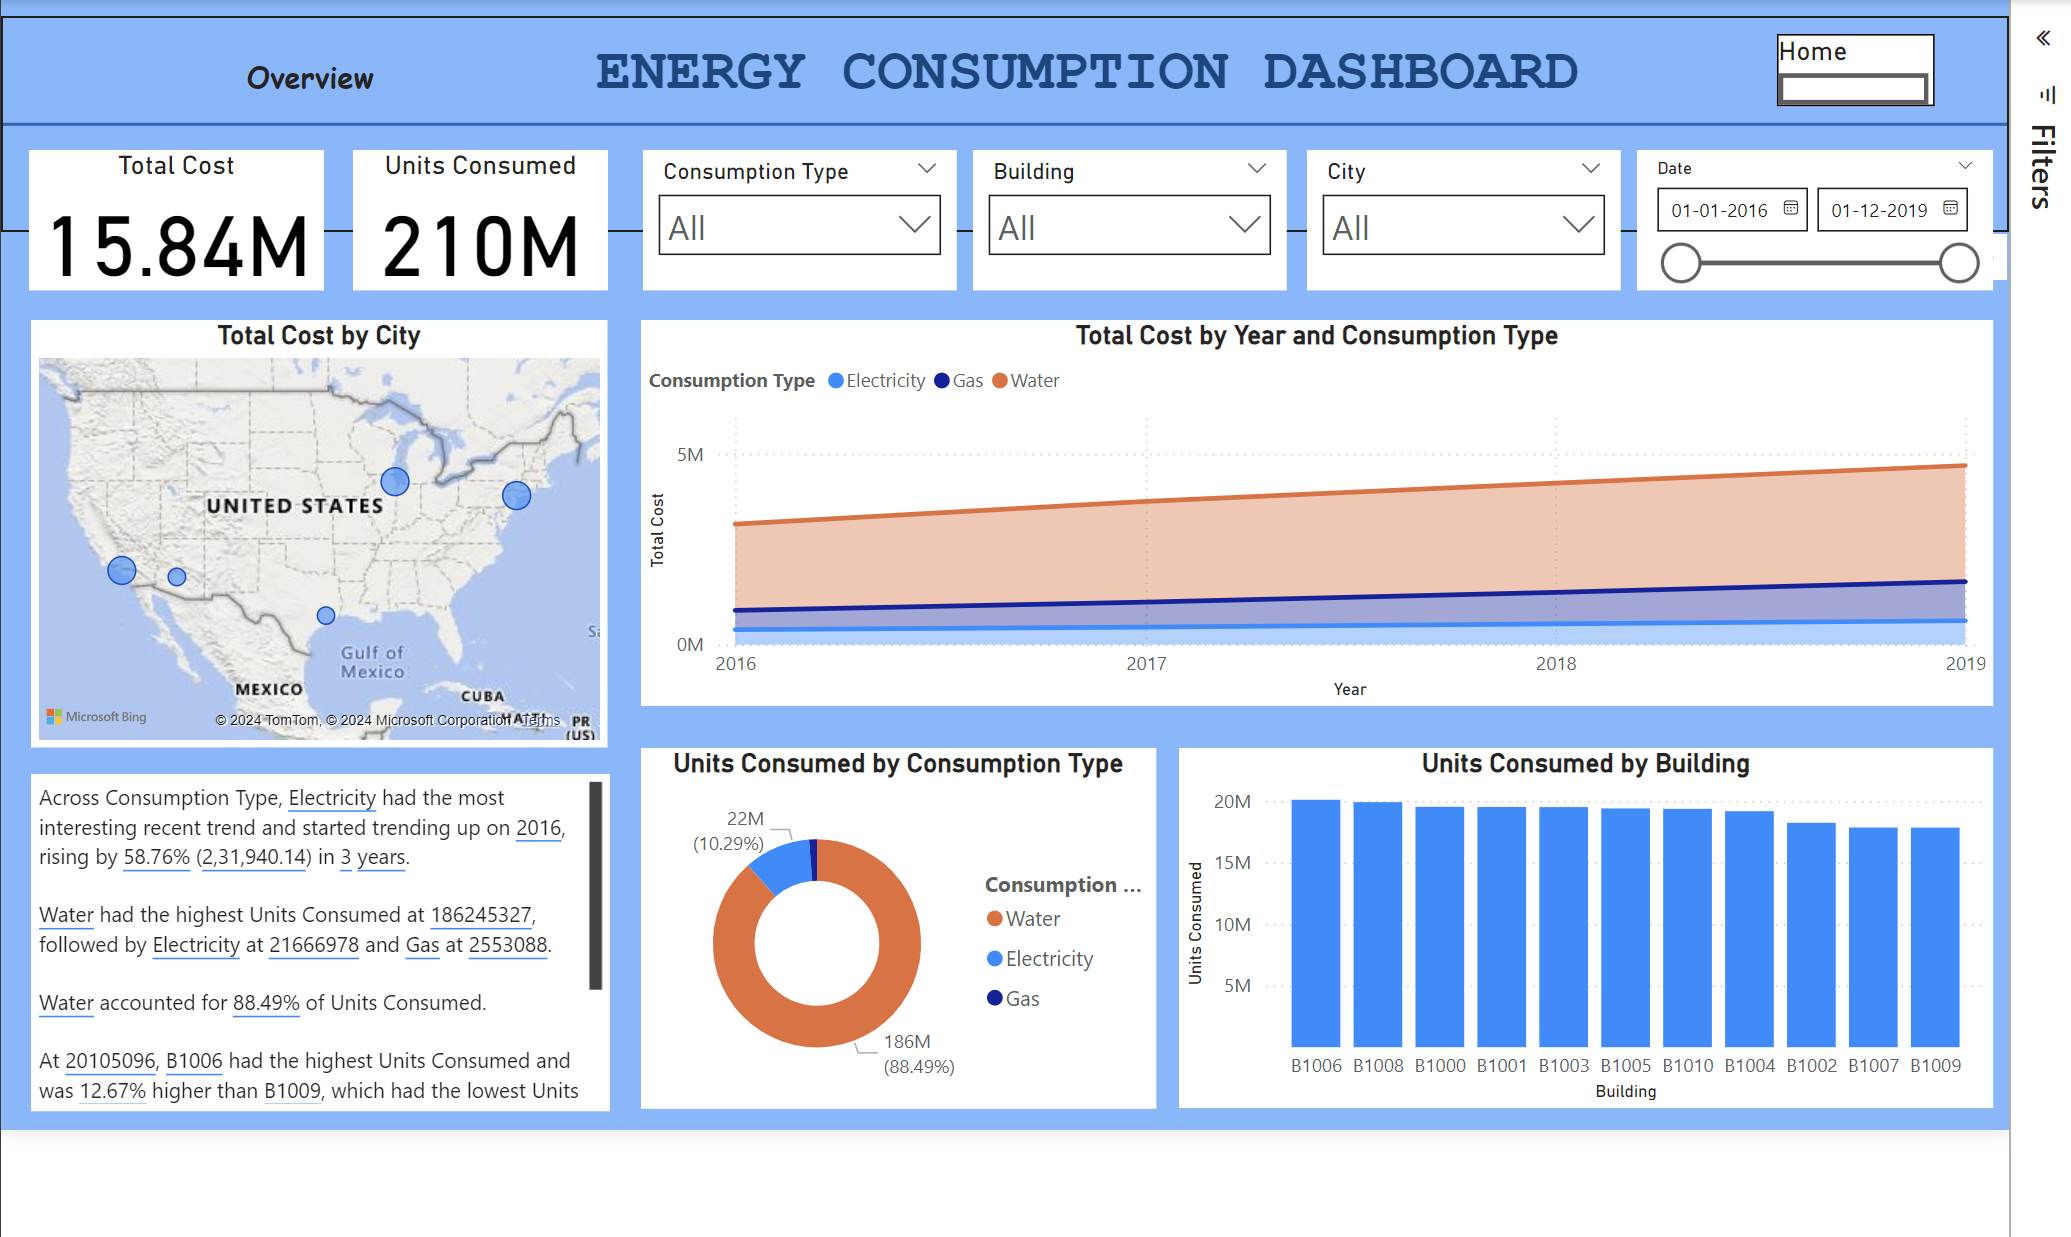

The dashboard page shown, as its layout file describes it:
{"tool":"powerbi","page":{"name":"Page 1","canvas":[1280,720],"ordinal":0},"visuals":[{"type":"shape","box":[0,9.7,1280,138.1],"z":0},{"type":"textbox","box":[342.9,20.4,699.9,58.6],"z":1000},{"type":"textbox","box":[151.7,30.6,100.7,38.2],"z":2000},{"type":"card","title":"Total Cost","fields":{"Values":["Energy Consumptions.Total Cost"]},"box":[17.9,95.5,188.1,89.6],"z":3000},{"type":"card","title":"Units Consumed","fields":{"Values":["Energy Consumptions.Units Consumed"]},"box":[223.9,95.5,162.7,89.6],"z":4000},{"type":"slicer","fields":{"Values":["Energy Consumptions.Consumption Type"]},"box":[409,95.5,200,89.6],"z":5000},{"type":"slicer","fields":{"Values":["Energy Consumptions.Building"]},"box":[619.4,95.5,200,89.6],"z":6000},{"type":"slicer","fields":{"Values":["Building Master.City"]},"box":[832.8,95.5,200,89.6],"z":7000},{"type":"slicer","fields":{"Values":["Energy Consumptions.Date"]},"box":[1043.3,95.5,226.9,89.6],"z":8000},{"type":"map","fields":{"Category":["Building Master.City"],"Size":["Energy Consumptions.Total Cost"]},"box":[18.8,203.8,367.5,272.5],"z":9000},{"type":"stackedAreaChart","fields":{"Category":["Energy Consumptions.Date.Variation.Date Hierarchy.Year","Energy Consumptions.Date.Variation.Date Hierarchy.Quarter","Energy Consumptions.Date.Variation.Date Hierarchy.Month","Energy Consumptions.Date.Variation.Date Hierarchy.Day"],"Y":["Energy Consumptions.Total Cost"],"Series":["Energy Consumptions.Consumption Type"]},"box":[408.1,204.1,862.2,245.9],"z":10000},{"type":"donutChart","fields":{"Y":["Energy Consumptions.Units Consumed"],"Category":["Energy Consumptions.Consumption Type"]},"box":[408.3,476.7,328.3,230],"z":11000},{"type":"columnChart","fields":{"Category":["Building Master.Building"],"Y":["Energy Consumptions.Units Consumed"]},"box":[751.4,477,518.9,229.7],"z":12000},{"type":"textbox","box":[18.8,493.8,368.8,215],"z":13000},{"type":"actionButton","title":"Home","box":[1132.2,21.1,100.7,46],"z":13001}]}

Visuals, with their boxes in screenshot pixels (x1, y1, x2, y2):
shape: 0,5,2021,225
textbox: 526,22,1642,115
textbox: 220,38,381,99
"Total Cost" card: 7,142,307,285
"Units Consumed" card: 336,142,595,285
slicer - Energy Consumptions.Consumption Type: 631,142,950,285
slicer - Energy Consumptions.Building: 967,142,1286,285
slicer - Building Master.City: 1307,142,1626,285
slicer - Energy Consumptions.Date: 1643,142,2005,285
map - Building Master.City x Energy Consumptions.Total Cost: 8,314,595,749
stackedAreaChart - Energy Consumptions.Date.Variation.Date Hierarchy.Year x Energy Consumptions.Date.Variation.Date Hierarchy.Quarter: 630,315,2005,707
donutChart - Energy Consumptions.Units Consumed x Energy Consumptions.Consumption Type: 630,750,1154,1117
columnChart - Building Master.Building x Energy Consumptions.Units Consumed: 1177,750,2005,1117
textbox: 8,777,597,1120
"Home" actionButton: 1785,23,1946,96
